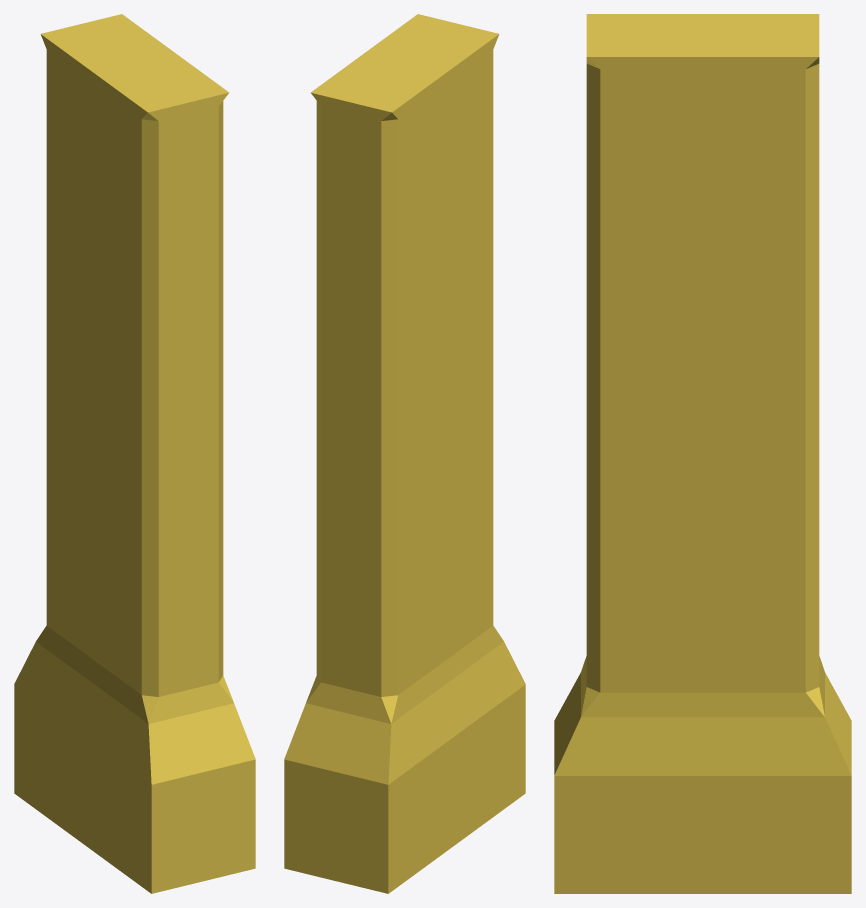
File: clnnnnn.fbx
3 views of the same model, side by side, from view 1: azimuth 30°, elevation 25°; view 2: azimuth 150°, elevation 25°; view 3: azimuth 270°, elevation 25° (orthographic). The views are drawn at different scales.
Parts seen in each view (by area): view 1: Cube.001; view 2: Cube.001; view 3: Cube.001.
Boxes of the visible parts, bbox=[...] form: Cube.001: bbox=[14, 14, 255, 893]; Cube.001: bbox=[284, 14, 525, 893]; Cube.001: bbox=[554, 14, 851, 893].
Bounding box in the file's own units: 341 × 2399 × 778.
